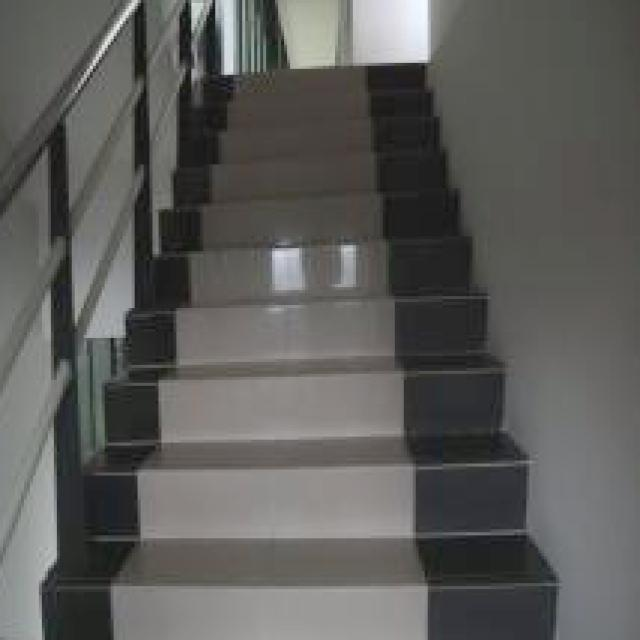upstair: (192, 81, 437, 640)
